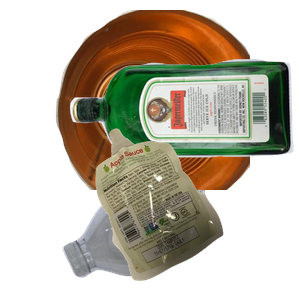glass: (67, 56, 300, 206)
metal: (53, 10, 293, 190)
plastic: (60, 190, 300, 280)
trash: (93, 126, 300, 300)
